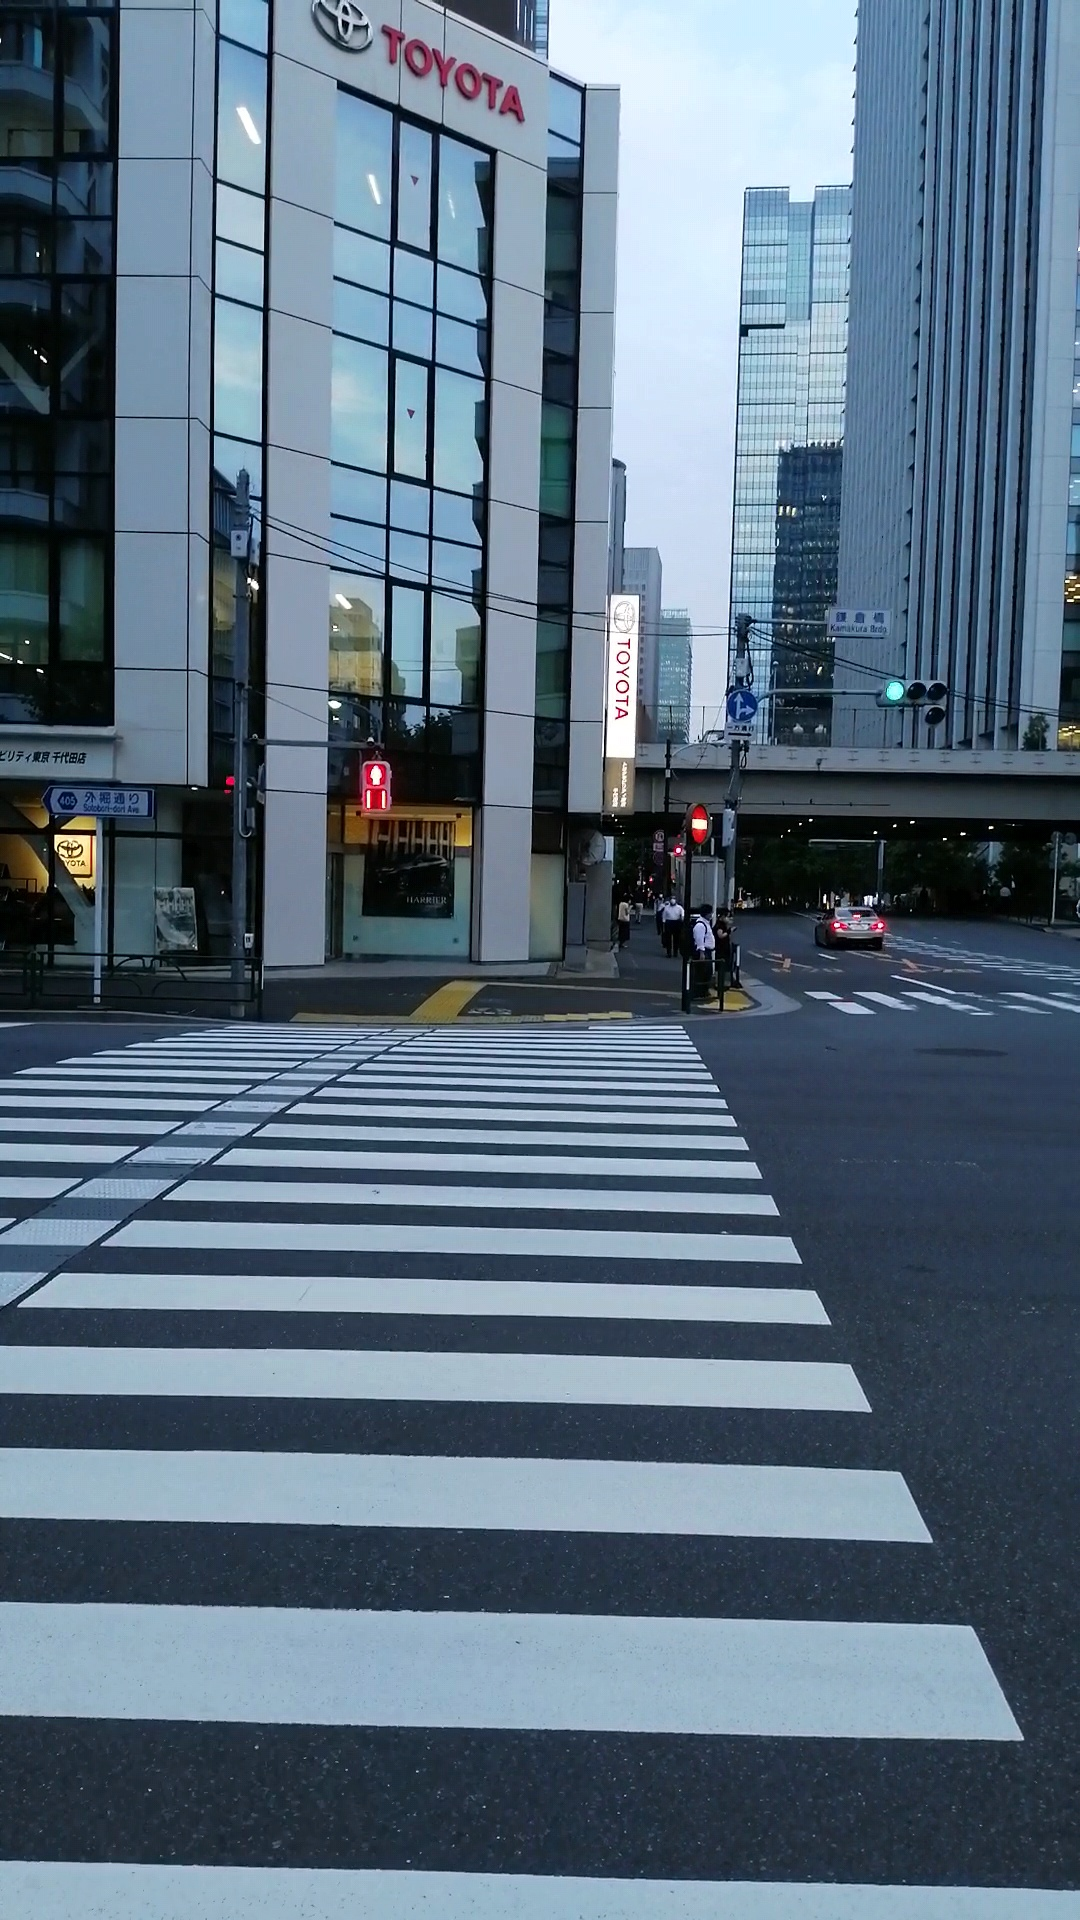red: (357, 758, 390, 816)
